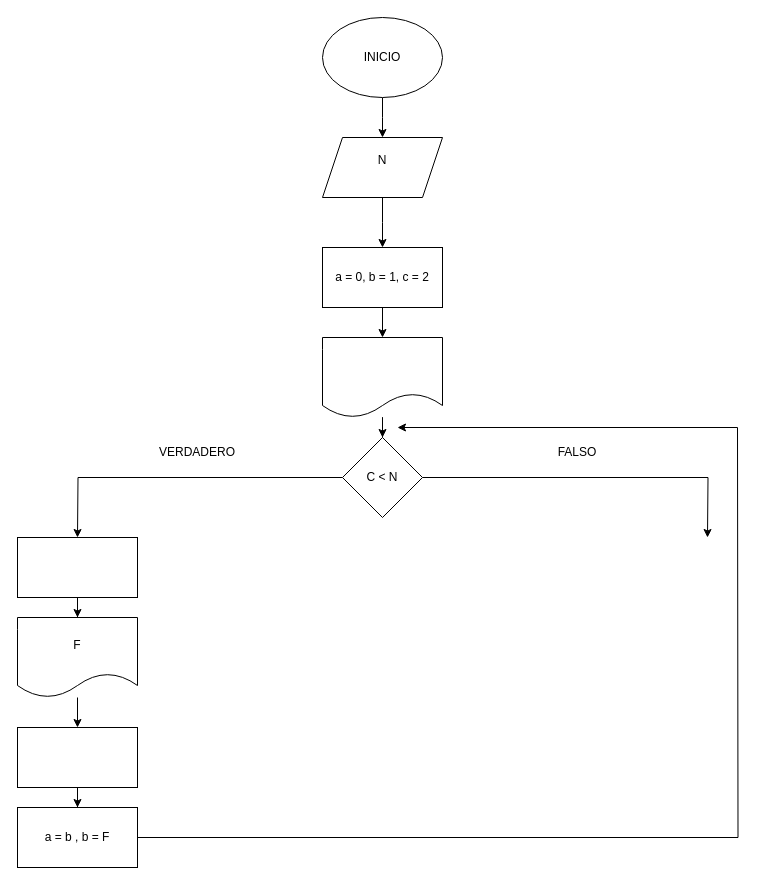
The diagram is 763 pixels wide and 885 high, and some of its shapes have lost their labels. Each missing label, with the centre of its shape:
a, b: (x=382, y=377)
C = c+1: (x=77, y=757)
F = a+b: (x=77, y=567)
